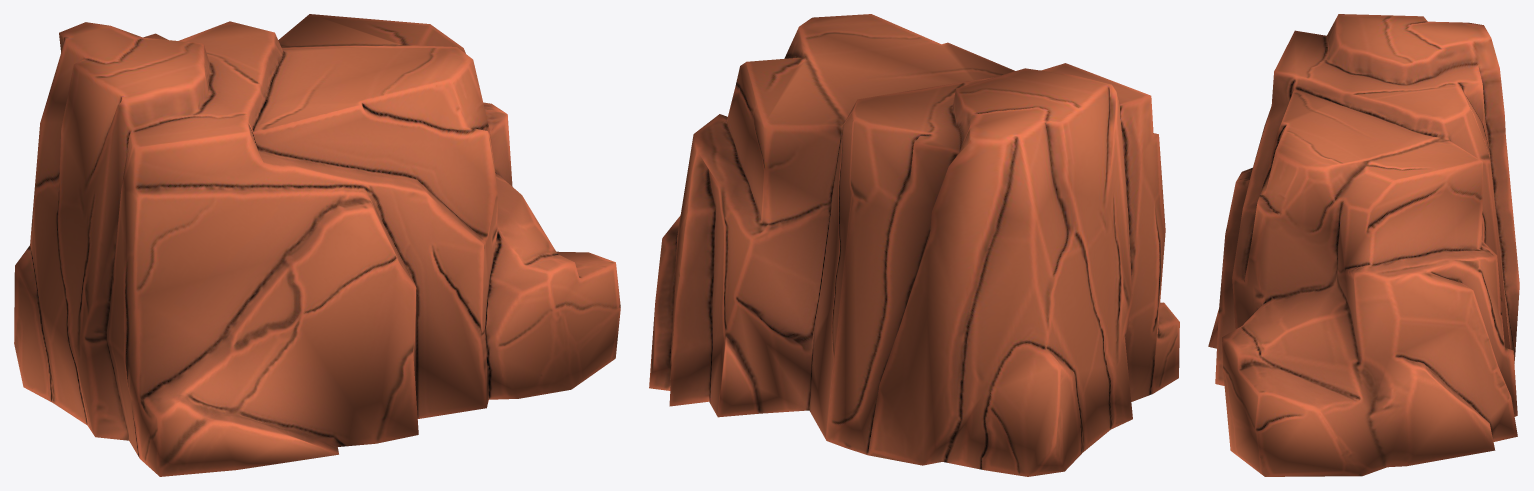
The model's file is rock_13.fbx.
3 renders of one model, left to right at view 1: azimuth 30°, elevation 25°; view 2: azimuth 150°, elevation 25°; view 3: azimuth 270°, elevation 25°, orthographic. The views are drawn at different scales.
Visible parts, largest first — view 1: Rock_13; view 2: Rock_13; view 3: Rock_13.
Boxes of the visible parts, bbox=[...] form: Rock_13: bbox=[14, 14, 620, 476]; Rock_13: bbox=[649, 14, 1179, 476]; Rock_13: bbox=[1208, 14, 1519, 476].
Bounding box in the file's own units: 296 × 201 × 201.
